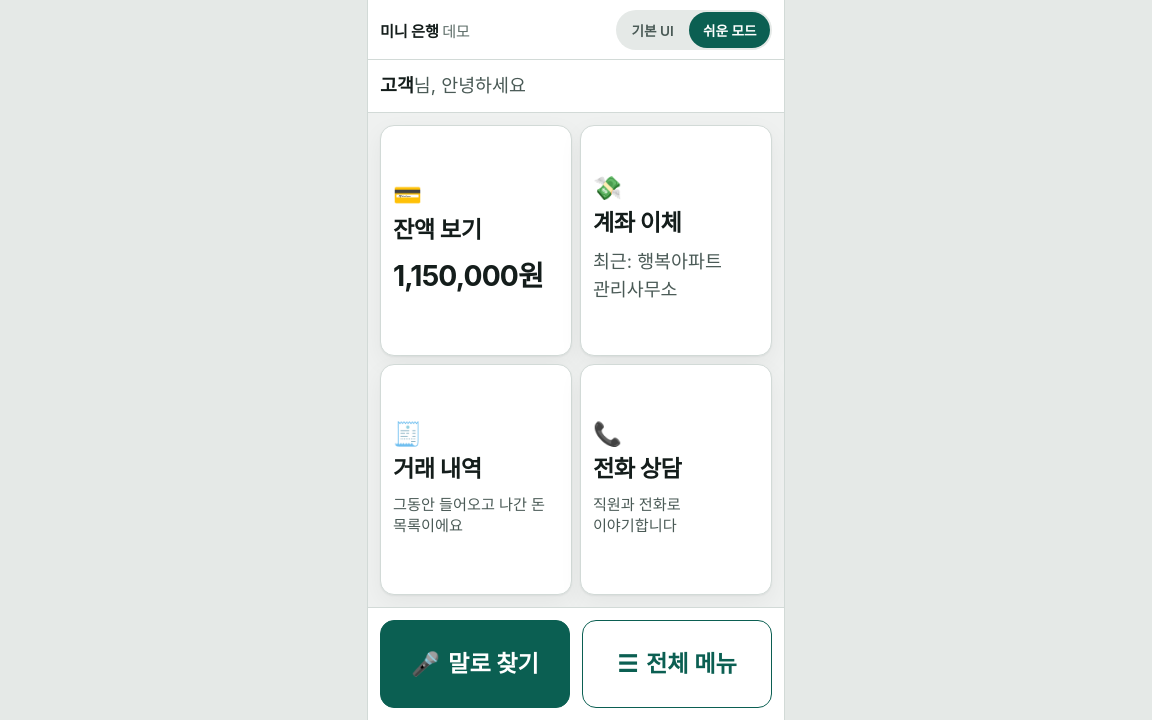
Scenario: 보내는 통장 고르기 › 통장이 하나뿐이면 고르는 칸이 안 생긴다
Expected: the element named "화면 방식" is shown, [616, 10, 772, 50]
Click the button "💸 계좌 이체 최근: 행복아파트 관리사무소" at point(676, 240), box [580, 125, 772, 356]
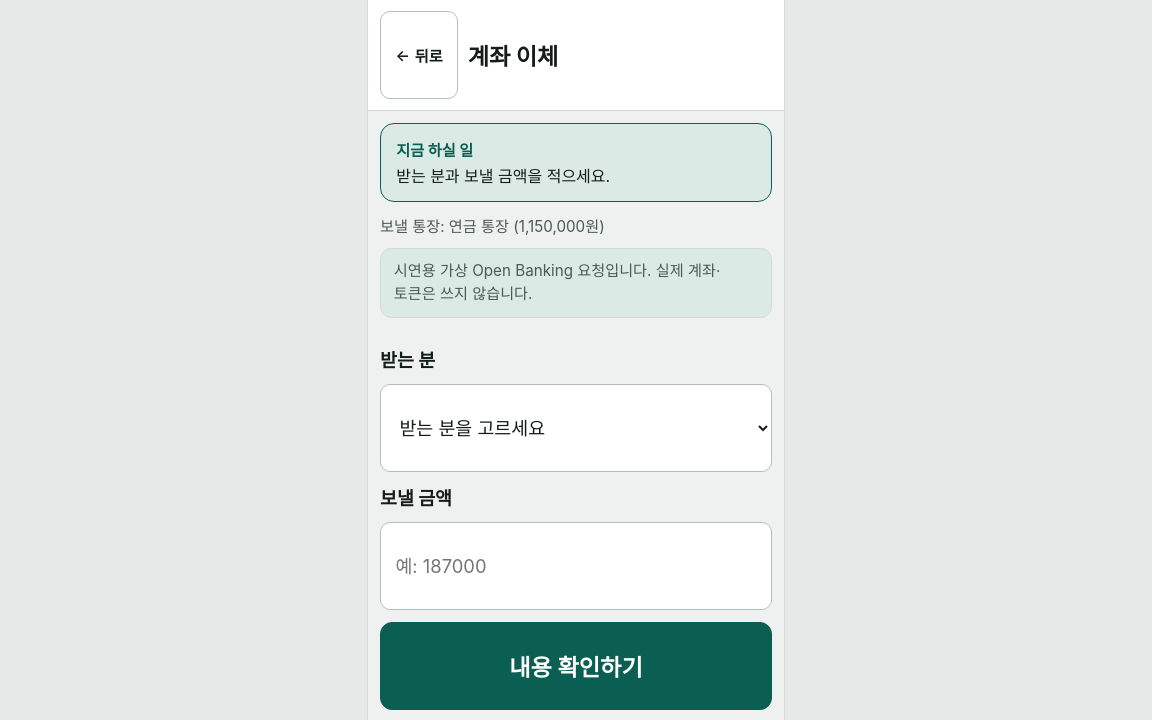
Expected: the button "내용 확인하기" is shown, [380, 622, 772, 710]
